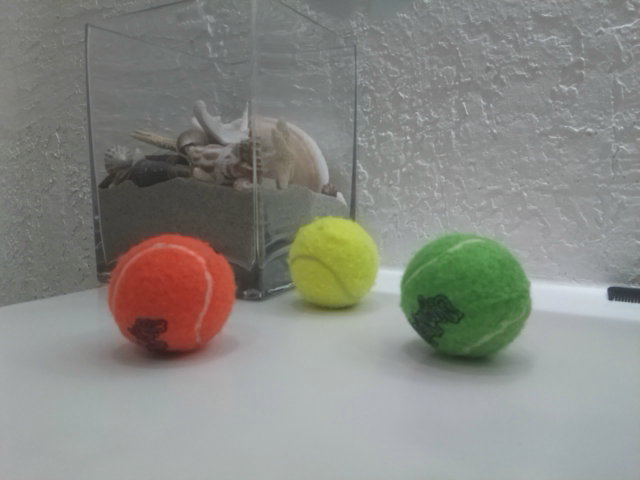green-ball: (399, 231, 535, 361)
orange-ball: (108, 231, 237, 358)
yellow-ball: (285, 215, 381, 312)
